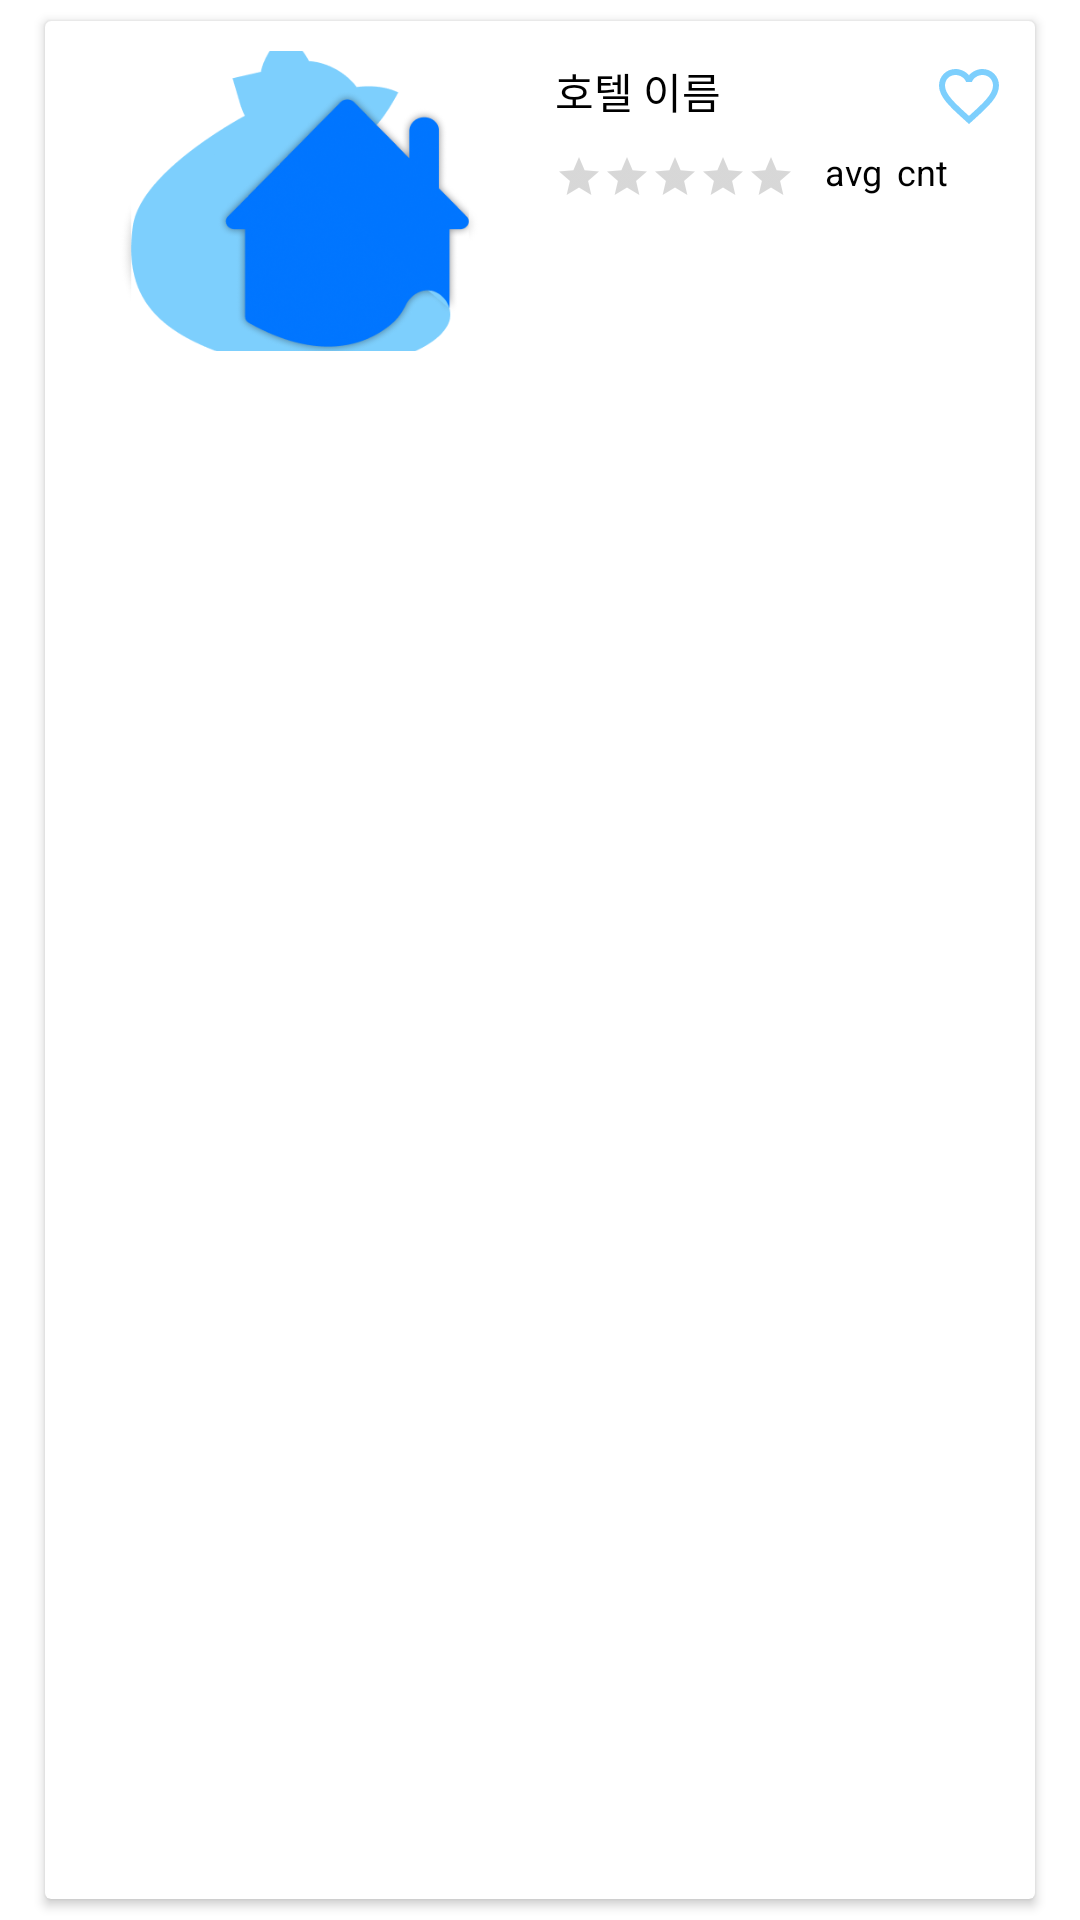

Screen size 1080×1920. Icon name, then its center in pixels as (x,y):
favorite border: (969,96)
